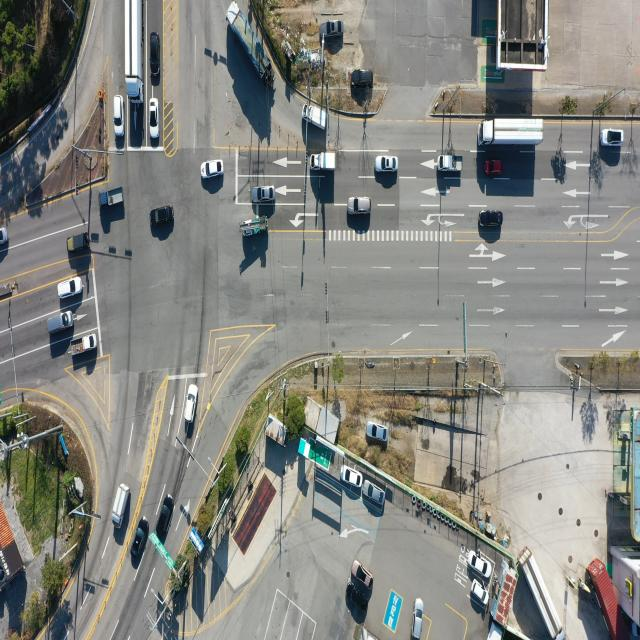car: (159, 495, 175, 540), (132, 521, 150, 560), (46, 310, 74, 334), (346, 584, 368, 614), (471, 552, 493, 580), (58, 276, 82, 300), (352, 561, 373, 588), (342, 464, 364, 488), (184, 384, 197, 424), (364, 482, 384, 507), (412, 599, 424, 640), (470, 580, 488, 607), (150, 206, 173, 227), (150, 32, 160, 78), (347, 197, 371, 216), (479, 210, 504, 228), (366, 422, 388, 442), (66, 233, 88, 253), (351, 68, 374, 87), (114, 94, 124, 137), (202, 161, 224, 180), (601, 130, 624, 148), (251, 185, 275, 202), (149, 98, 159, 138), (376, 156, 398, 174), (322, 20, 343, 38), (484, 161, 502, 177), (0, 228, 9, 248)
medium_truck: (224, 0, 276, 94), (524, 546, 566, 638), (125, 1, 144, 105), (478, 119, 542, 147)
small_truck: (110, 482, 130, 528), (302, 105, 326, 134), (242, 217, 269, 240), (71, 334, 99, 356), (312, 151, 337, 172), (100, 186, 124, 207), (438, 156, 464, 174)
